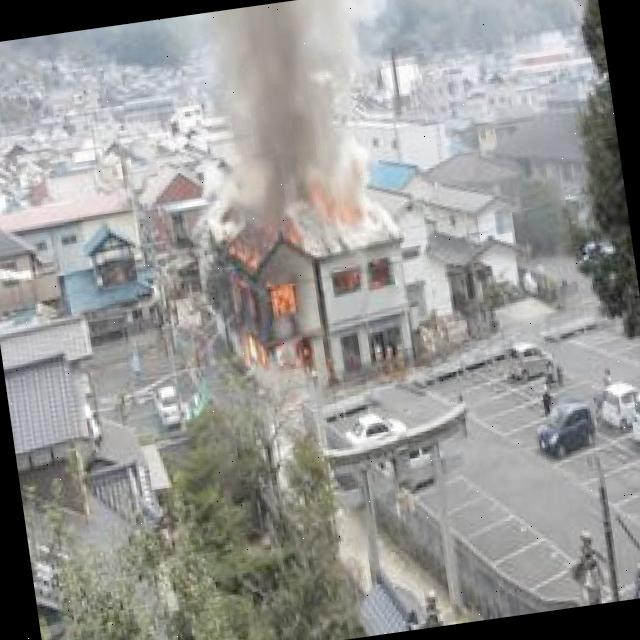fire: (221, 242, 312, 373)
